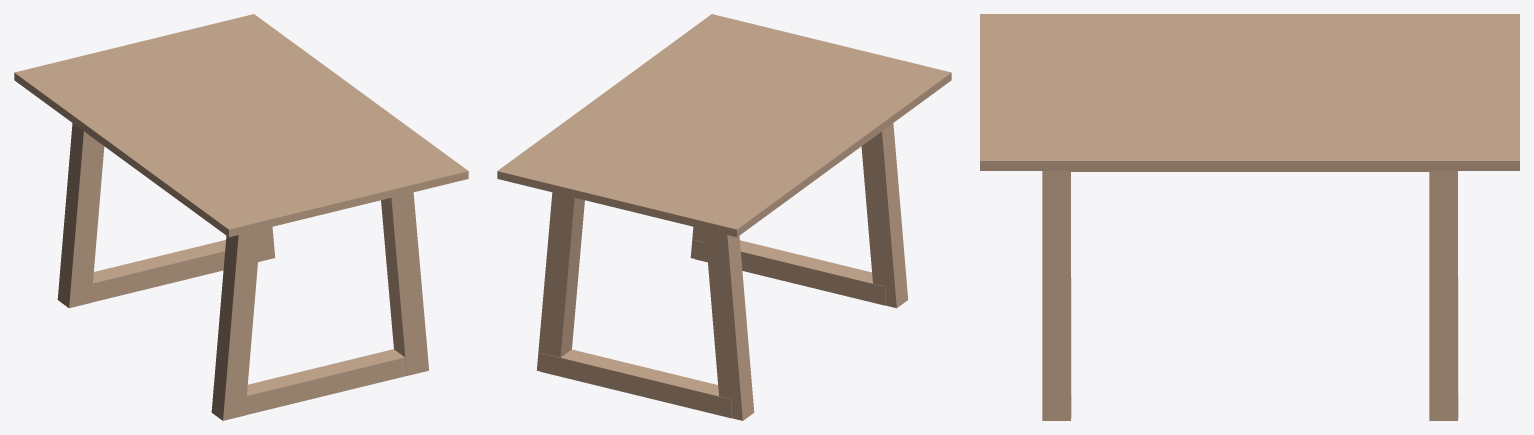
The model's file is DiningTable.fbx.
The picture shows the model from 3 angles, left to right: view 1: azimuth 30°, elevation 25°; view 2: azimuth 150°, elevation 25°; view 3: azimuth 270°, elevation 25°; orthographic projection. The views are drawn at different scales.
Visible parts, largest first — view 1: pCube1, pCube7, pCube2, pCube6, pCube5, pCube4, pCube3; view 2: pCube1, pCube2, pCube7, pCube3, pCube4, pCube5; view 3: pCube1, pCube3, pCube6.
Part boxes in pixels (<box>): pCube1: <box>14,14,468,237</box>; pCube7: <box>211,229,260,420</box>; pCube2: <box>57,123,104,308</box>; pCube6: <box>381,192,428,375</box>; pCube5: <box>245,349,406,415</box>; pCube4: <box>91,240,225,302</box>; pCube3: <box>258,227,275,261</box>; pCube1: <box>497,14,951,237</box>; pCube2: <box>705,229,754,420</box>; pCube7: <box>861,123,908,308</box>; pCube3: <box>536,192,584,371</box>; pCube4: <box>541,349,731,418</box>; pCube5: <box>695,240,885,305</box>; pCube1: <box>980,14,1519,170</box>; pCube3: <box>1429,171,1457,420</box>; pCube6: <box>1042,171,1070,420</box>.
Bounding box in the file's own units: 2.57 × 2.19 × 3.99.
